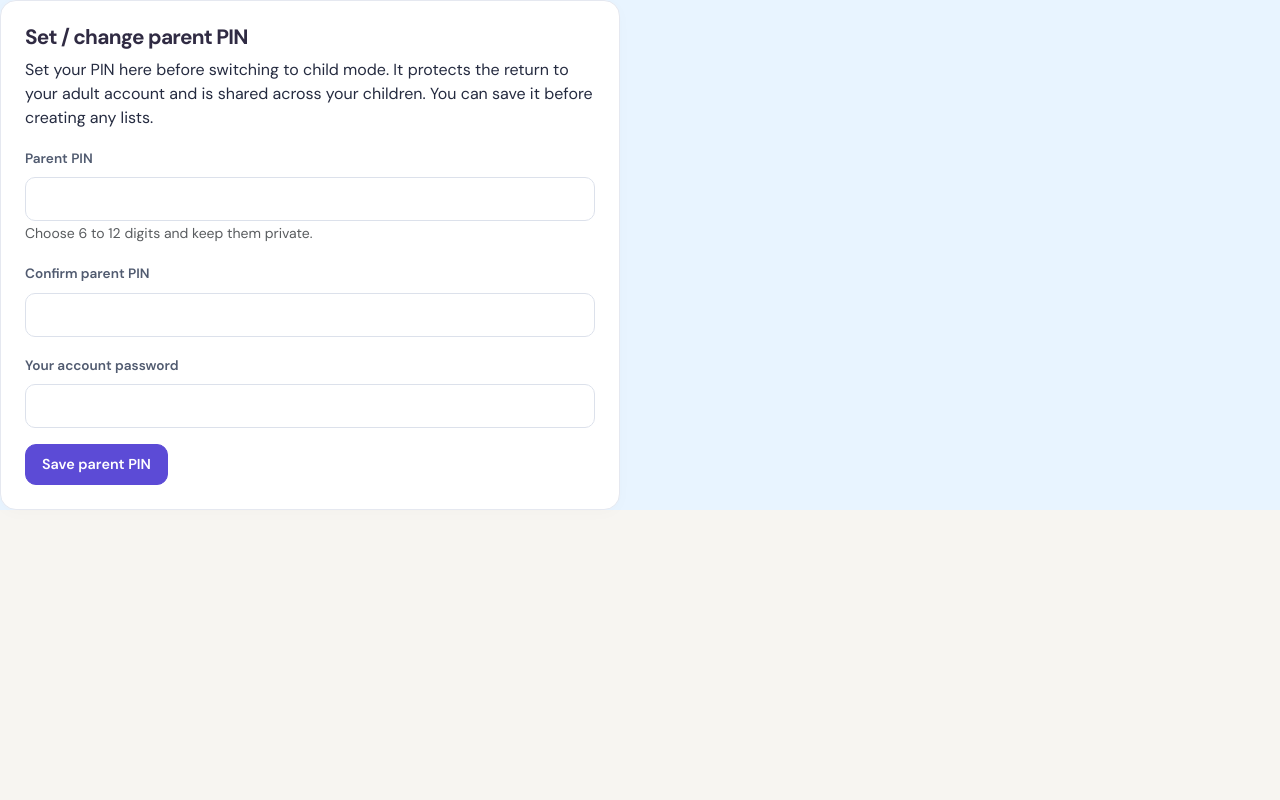
it: rejects mismatched PINs before saving
Type "123456" into the password field labelled "Parent PIN" at point(310, 199), box [25, 177, 595, 221]
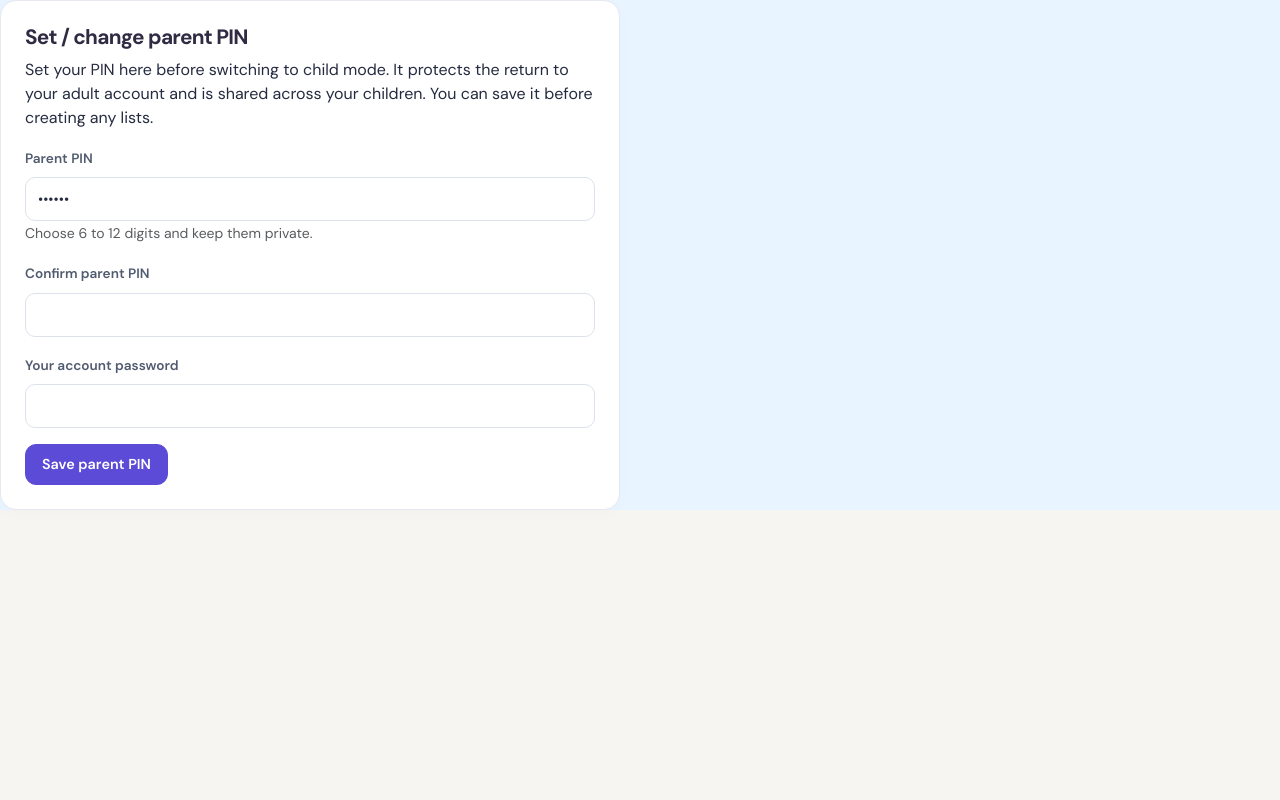
Type "654321" into the password field labelled "Confirm parent PIN" at point(310, 315), box [25, 293, 595, 337]
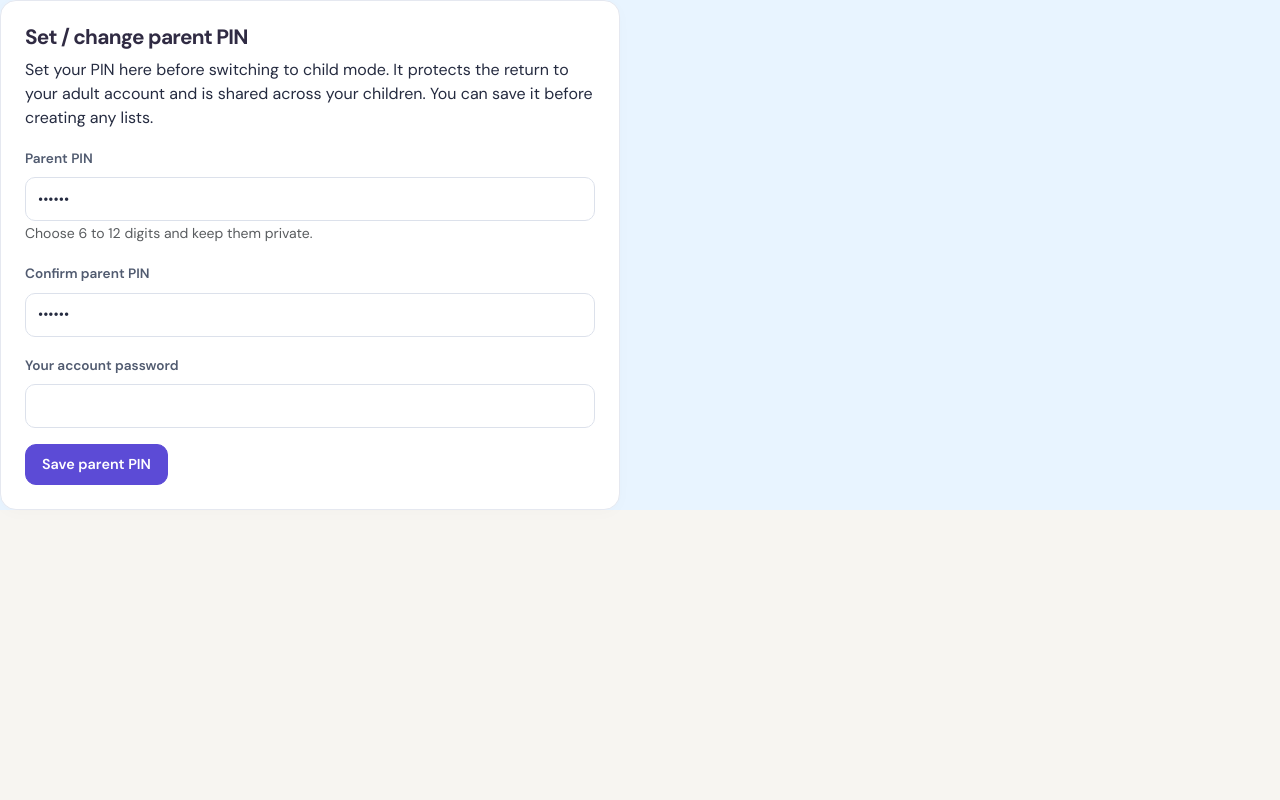
Type "parent-password" into the password field labelled "Your account password" at point(310, 406), box [25, 384, 595, 428]
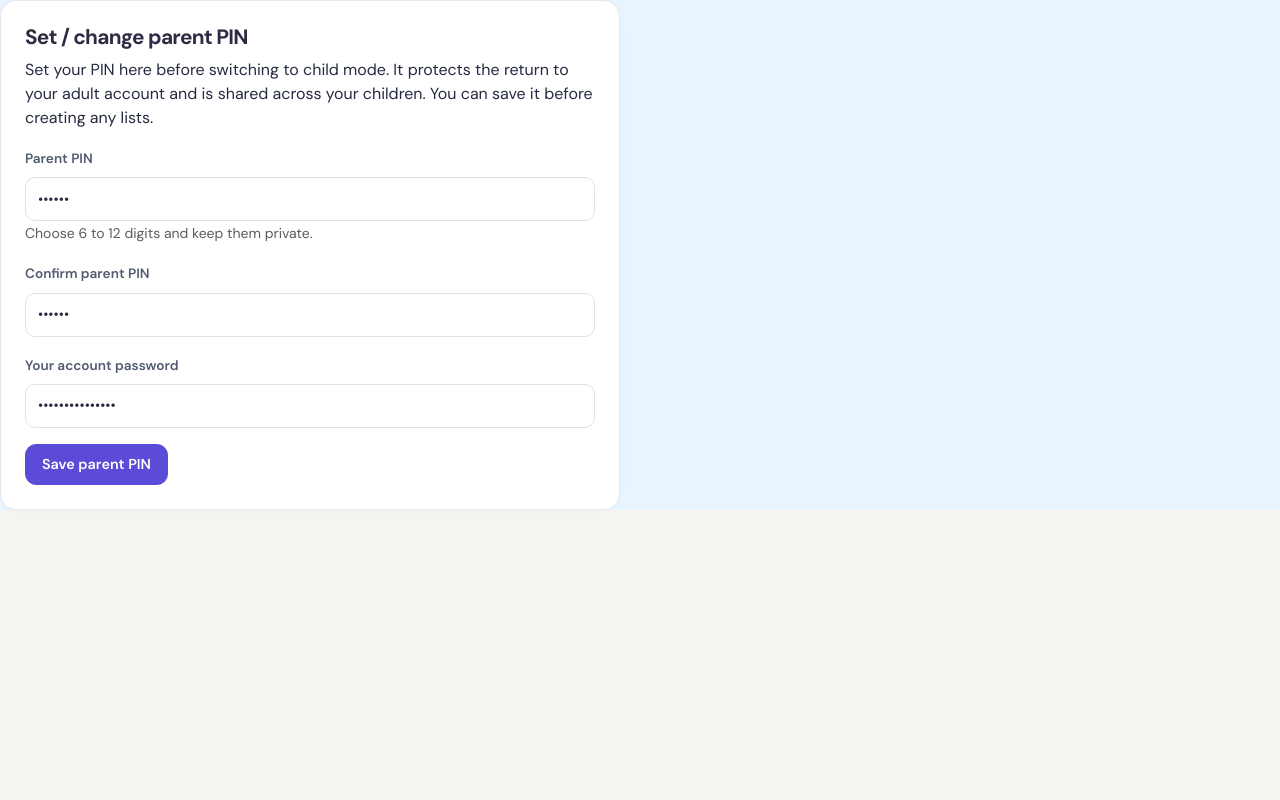
Click the button "Save parent PIN" at point(96, 465), box [25, 444, 168, 485]
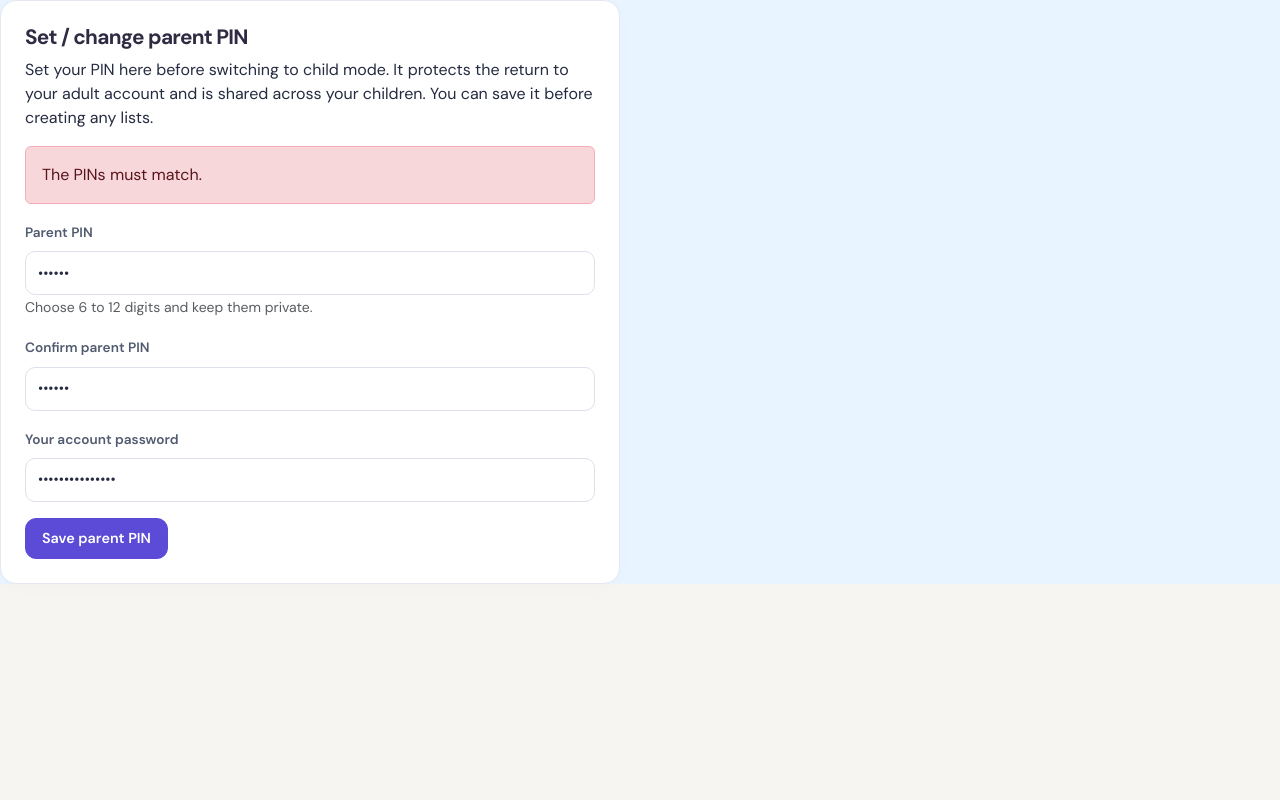
expect the message shows "The PINs must match": met, box [42, 164, 202, 185]
